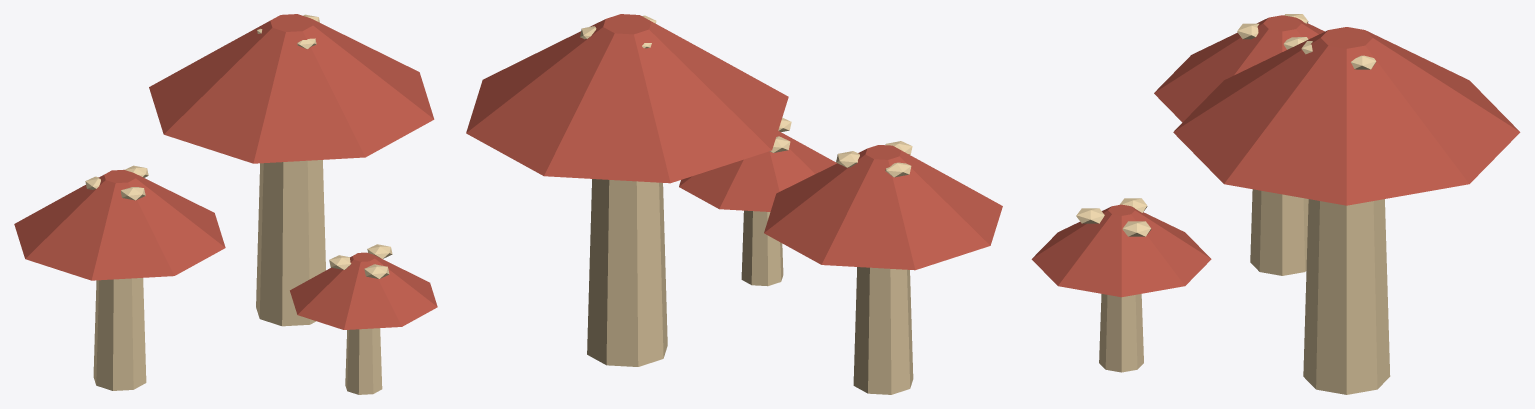
Rendered from mushroom_cluster.glb.
The picture shows the model from 3 angles, left to right: view 1: azimuth 30°, elevation 25°; view 2: azimuth 150°, elevation 25°; view 3: azimuth 270°, elevation 25°; orthographic projection. The views are drawn at different scales.
Parts seen in each view (by area): view 1: cap.001, cap, stalk.001, cap.002, stalk, stalk.002; view 2: cap.001, cap, stalk.001, stalk, cap.002, stalk.002; view 3: cap.001, stalk.001, cap.002, cap, stalk, stalk.002.
Part boxes in pixels (<box>): cap.001: <box>149,14,434,163</box>; cap: <box>14,169,225,280</box>; stalk.001: <box>256,160,325,326</box>; cap.002: <box>290,252,437,329</box>; stalk: <box>93,278,146,390</box>; stalk.002: <box>345,328,382,394</box>; cap.001: <box>466,14,788,183</box>; cap: <box>764,145,1002,270</box>; stalk.001: <box>587,179,667,366</box>; stalk: <box>853,267,913,394</box>; cap.002: <box>679,131,836,211</box>; stalk.002: <box>741,210,783,286</box>; cap.001: <box>1173,27,1520,205</box>; stalk.001: <box>1303,199,1390,394</box>; cap.002: <box>1031,204,1211,297</box>; cap: <box>1154,15,1324,122</box>; stalk: <box>1250,189,1308,275</box>; stalk.002: <box>1099,294,1143,372</box>.
Size of the model in its own units: 0.89 by 0.581 by 0.76.
